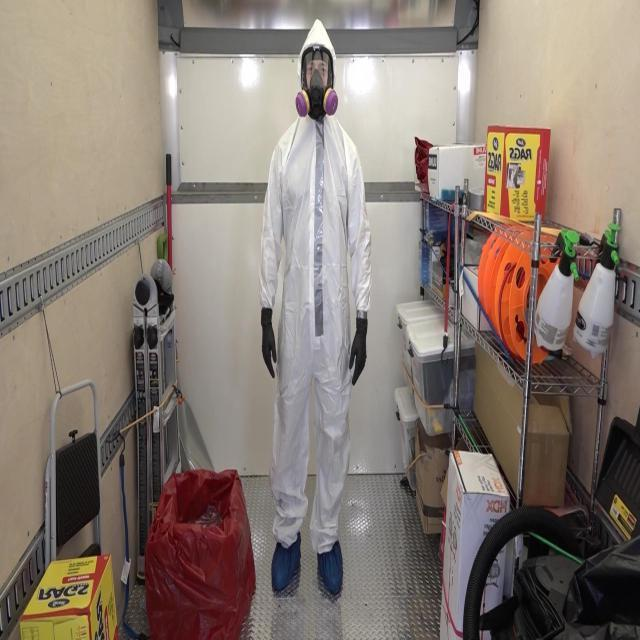gloves: (348, 318, 369, 386), (260, 306, 278, 379)
